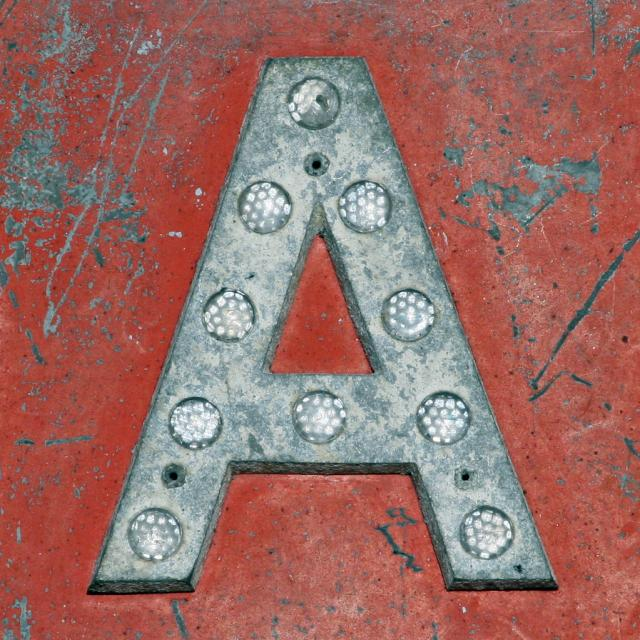A: (90, 56, 557, 596)
